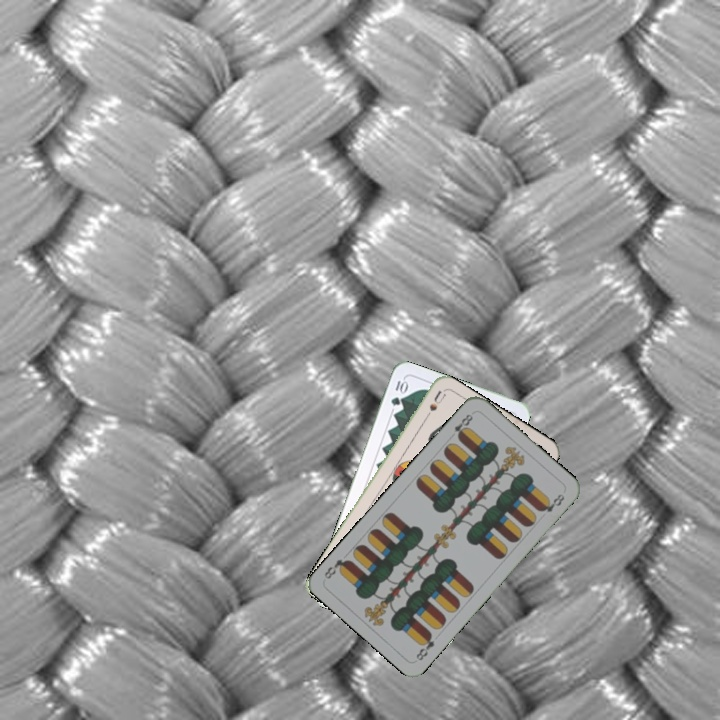E8: (445, 410, 475, 442), (412, 629, 437, 663)
G10: (387, 376, 410, 408)
SU: (419, 387, 448, 425)
